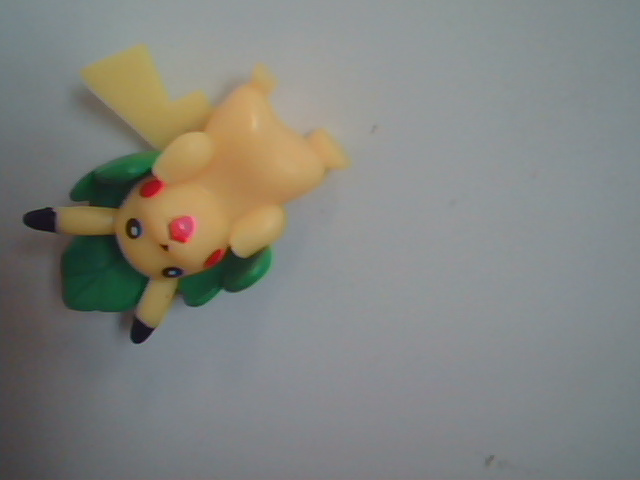pikachu: (16, 40, 389, 408)
